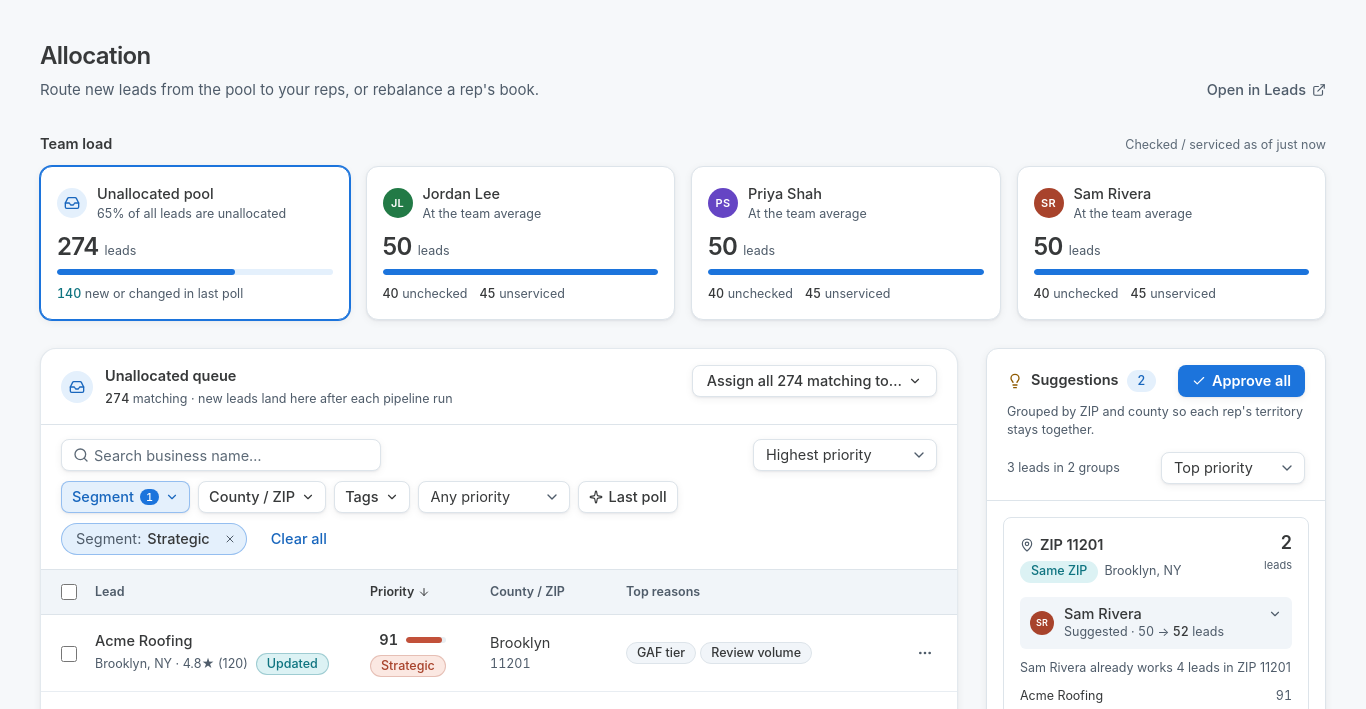
Test case: AllocationPage › assigns everything a filter matches via by-filter after confirming the count
Click the button "Assign all 274 matching to…": click(814, 381) [692,365,937,397]
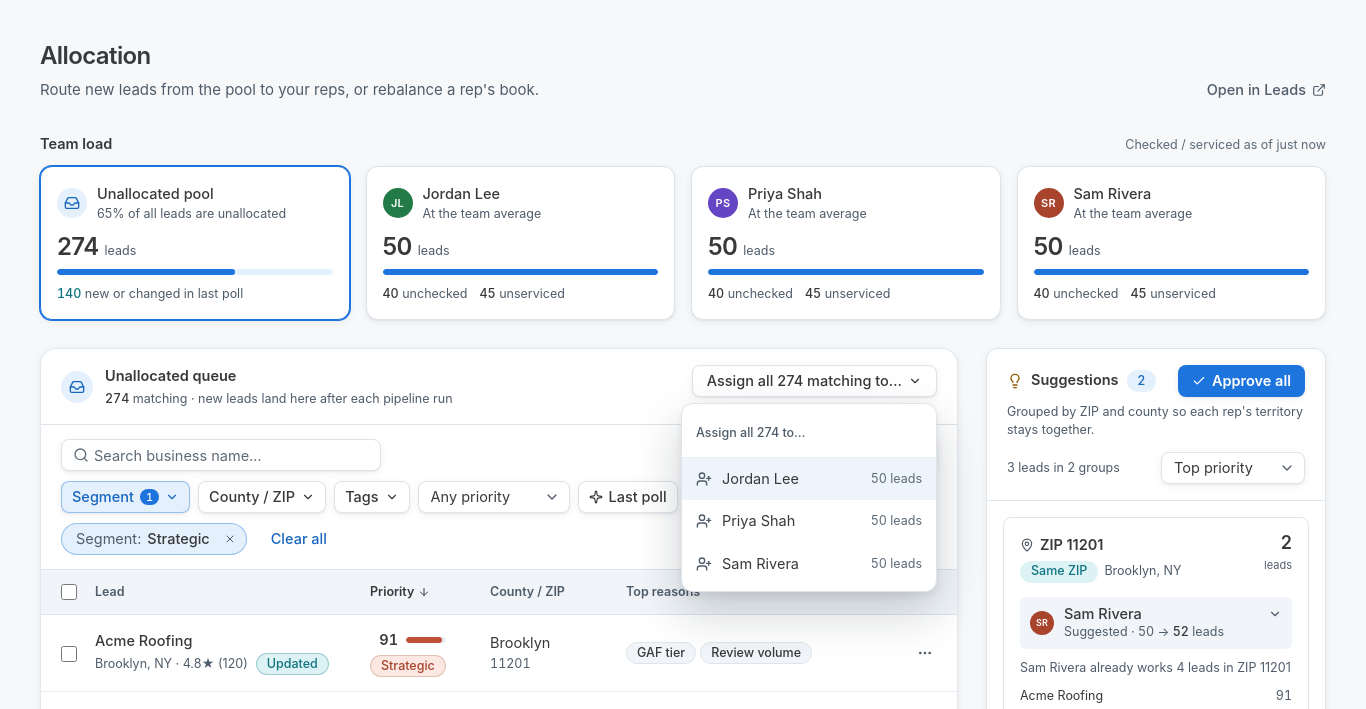
Click the menu item "Priya Shah 50 leads": click(809, 521) [682,500,936,542]
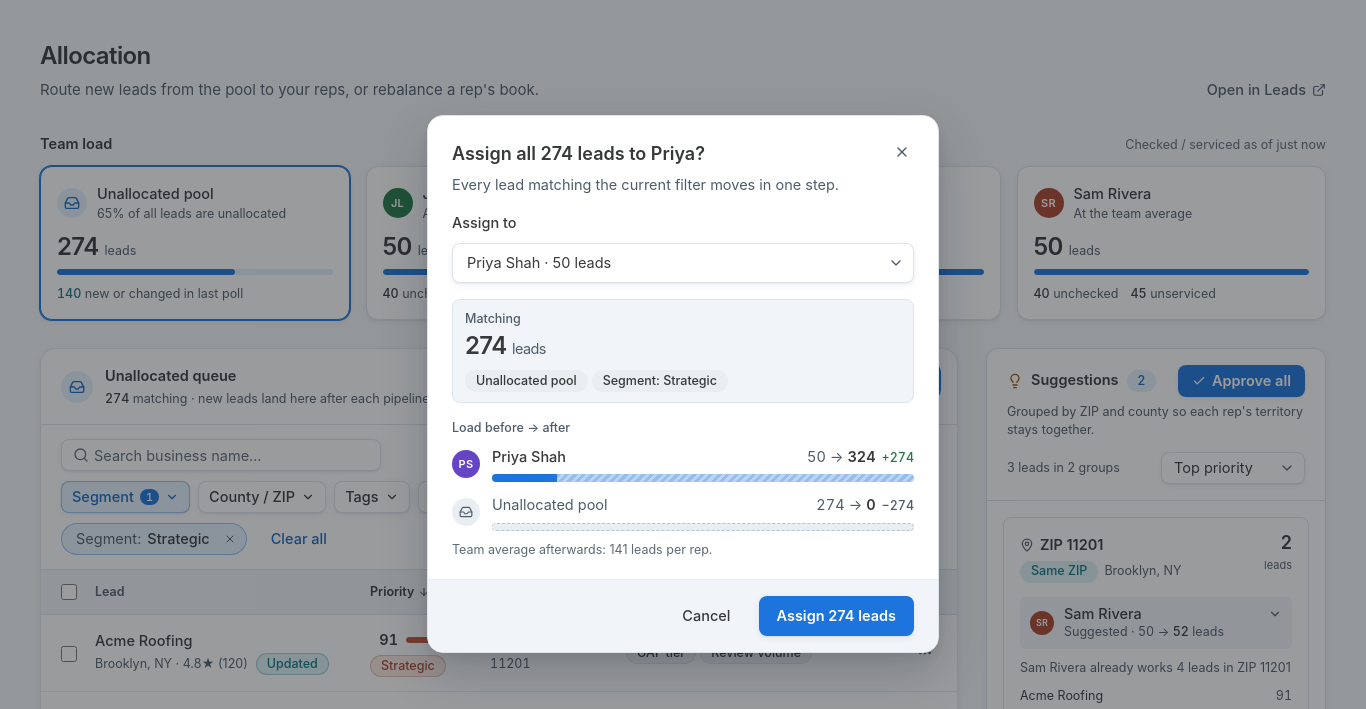
Check: the text "Matching" is shown, box [465,311,521,326]
Check: the dialog "Assign all 274 leads to Priya?" shows "Strategic", box [603,373,717,388]
Click the button "Assign 274 leads": click(836, 616) [758,596,914,636]
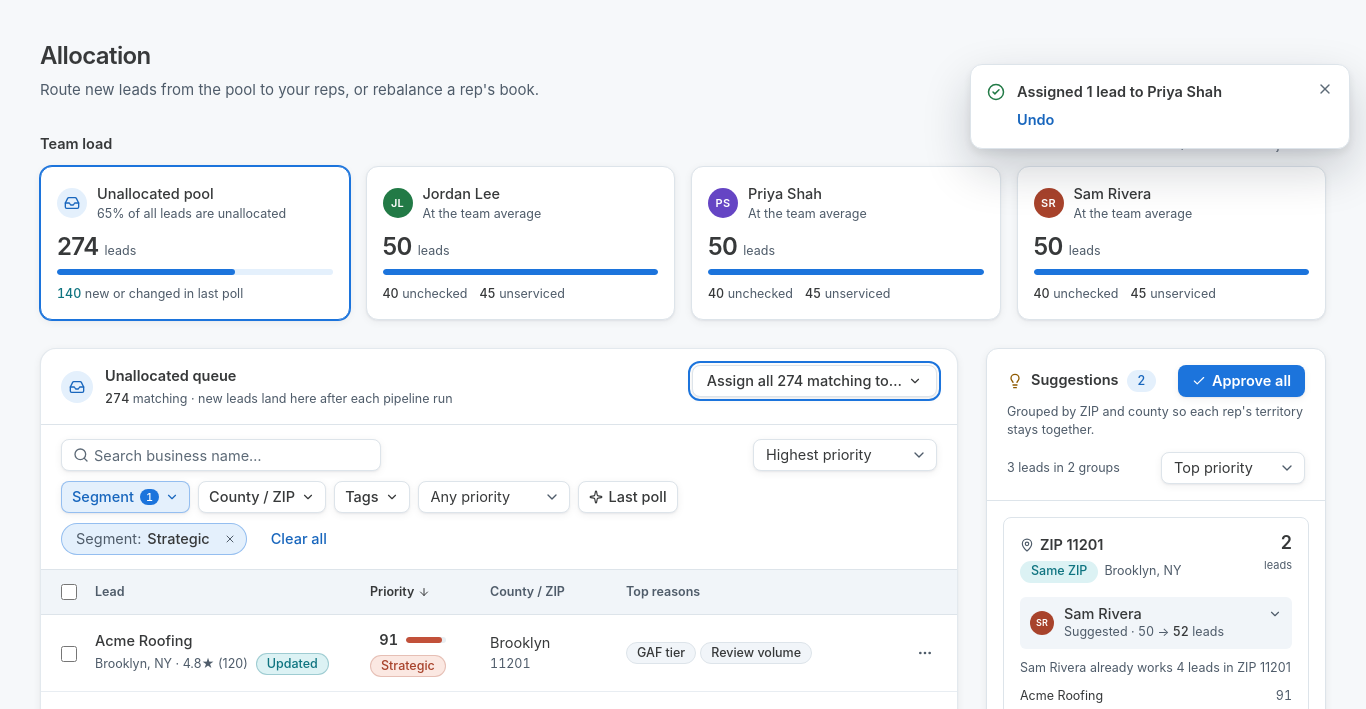
Check: the text "Assigned 1 lead to Priya Shah" is shown, box [1017,83,1222,100]
